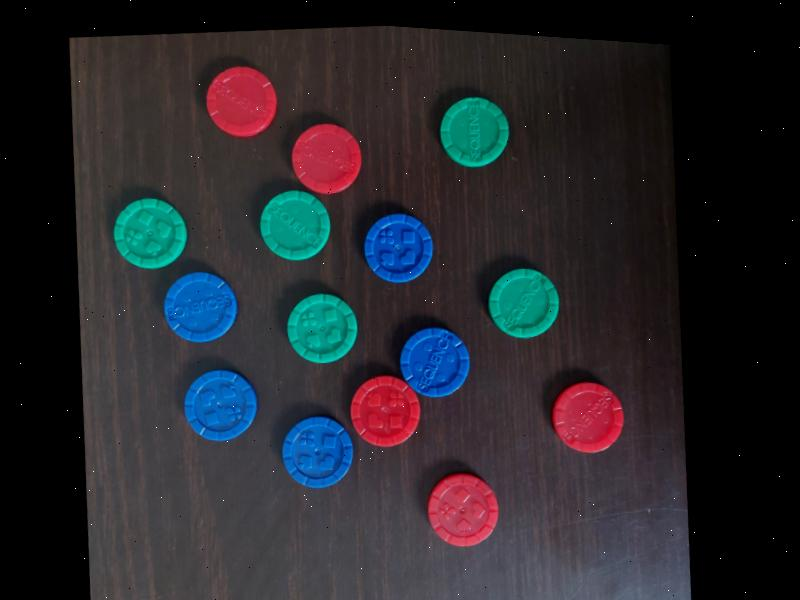Blue_Token: (174, 360, 265, 452), (353, 204, 443, 295), (273, 406, 362, 496), (389, 317, 477, 406), (156, 265, 244, 352)
Green_Token: (102, 188, 195, 280), (429, 87, 517, 176), (479, 259, 567, 347), (277, 284, 364, 372), (250, 182, 337, 269)
Red_Token: (542, 372, 632, 462), (418, 465, 506, 556), (197, 57, 285, 146), (342, 368, 428, 455), (283, 116, 368, 203)
